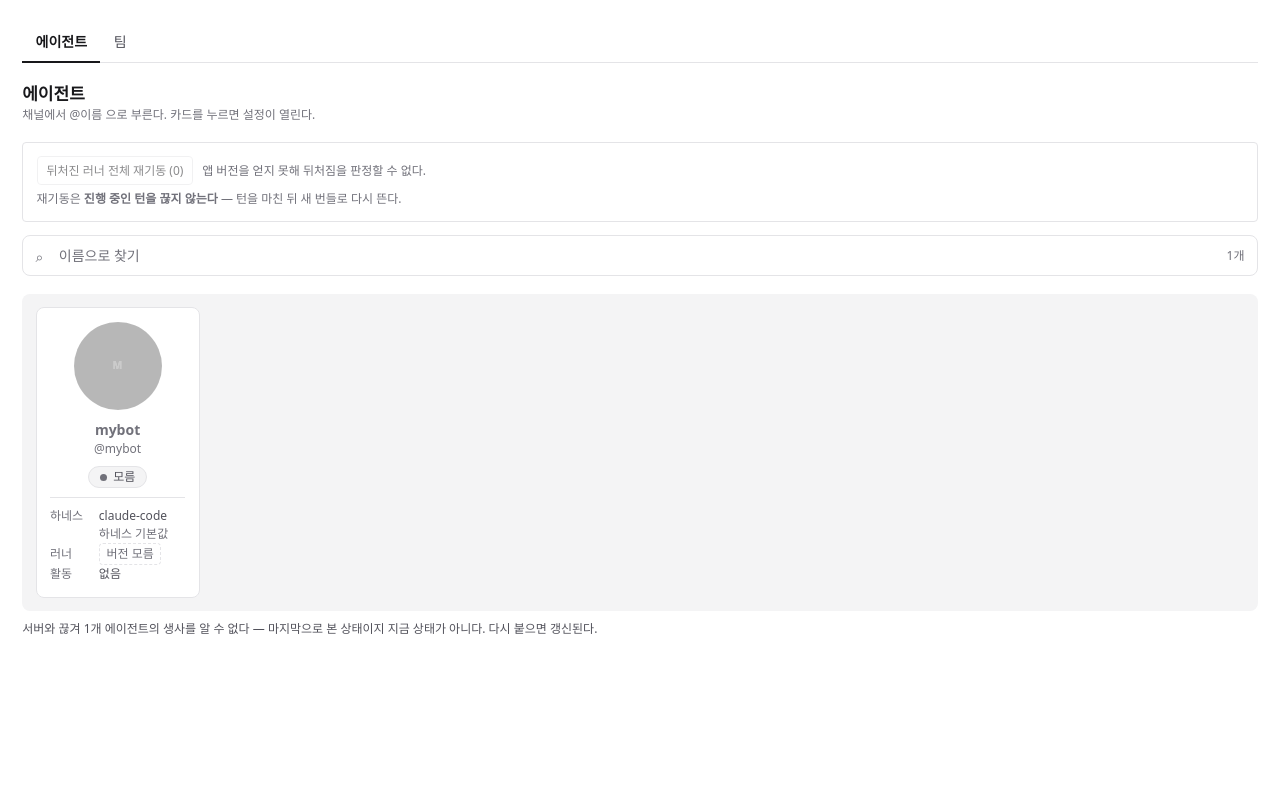
Test: 소유자의 에이전트 설정 화면 (#299) › 5. 소유자 화면에 PAT·메모리 패널이 보이고 내용이 실제로 채워진다
Click the button with test id "agent-card-mybot" at (118, 390), box left=50, top=322, right=185, bottom=458
(page scrolled)
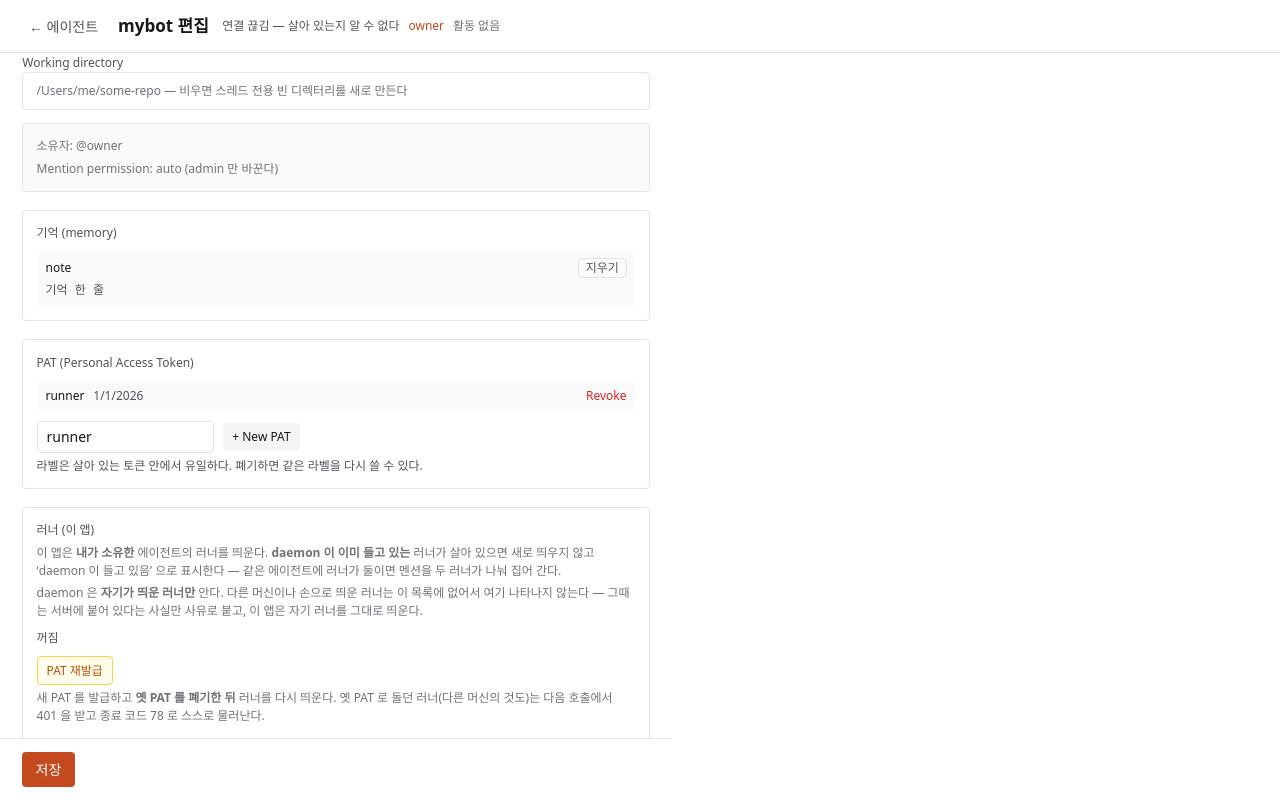
Now the field labelled "Working directory" is shown, box left=22, top=72, right=650, bottom=110
Now the text "PAT (Personal Access Token)" is shown, box left=37, top=354, right=194, bottom=370
Now the text "기억 (memory)" is shown, box left=37, top=224, right=117, bottom=241
